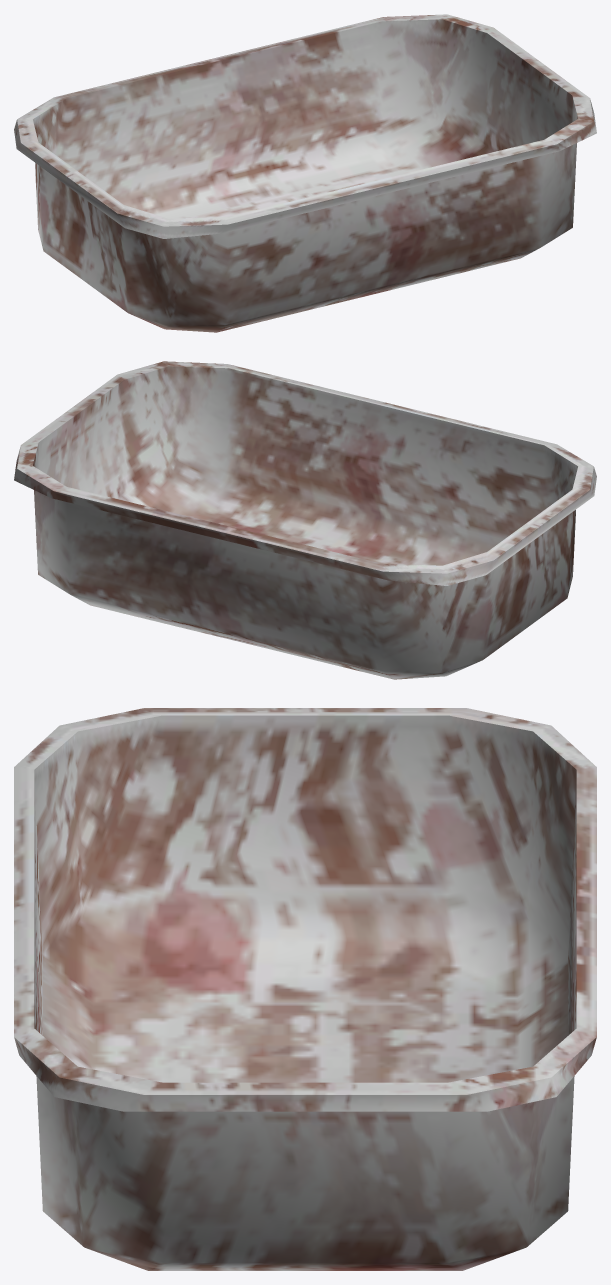
The model's file is SM_TrashScrapCase_04_A.fbx.
3 renders of one model, top to bottom at view 1: azimuth 30°, elevation 25°; view 2: azimuth 150°, elevation 25°; view 3: azimuth 270°, elevation 25°, orthographic. The views are drawn at different scales.
Parts seen in each view (by area): view 1: SM_TrashScrapCase_04_A; view 2: SM_TrashScrapCase_04_A; view 3: SM_TrashScrapCase_04_A.
Boxes of the visible parts, x1,y1,x2,y2 form: SM_TrashScrapCase_04_A: [14, 14, 596, 332]; SM_TrashScrapCase_04_A: [14, 361, 596, 679]; SM_TrashScrapCase_04_A: [14, 708, 596, 1270].
Size of the model in its own units: 32.62 by 20.78 by 8.58.
1 material, 1 textured.
